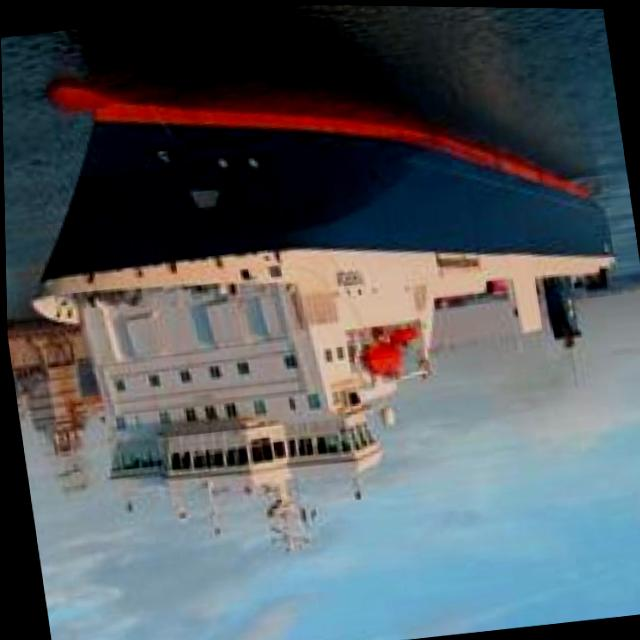ship2: (30, 75, 615, 547)
